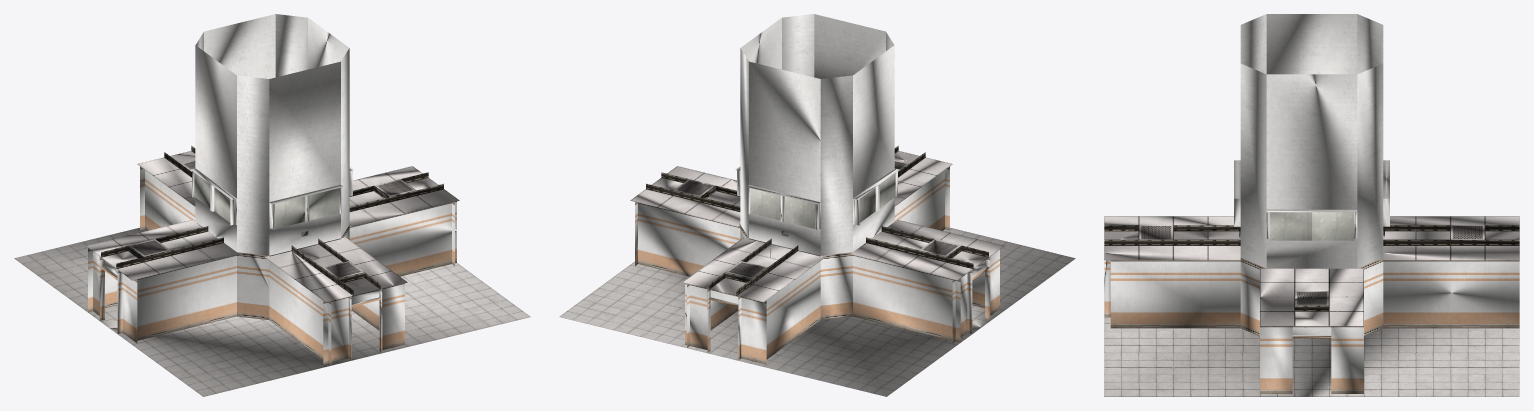
Rendered from room4z3_opt.obj.
3 renders of one model, left to right at view 1: azimuth 30°, elevation 25°; view 2: azimuth 150°, elevation 25°; view 3: azimuth 270°, elevation 25°, orthographic. The views are drawn at different scales.
Bounding box in the file's own units: 102 × 72.05 × 102.
10 materials, 10 textured.
